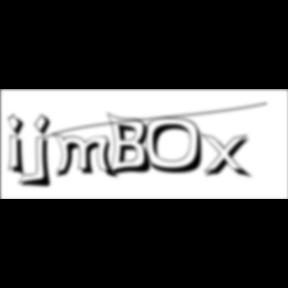B: (107, 111, 157, 179)
O: (146, 117, 210, 176)
i: (8, 112, 32, 180)
j: (32, 113, 58, 191)
m: (52, 132, 120, 181)
x: (200, 132, 255, 181)
